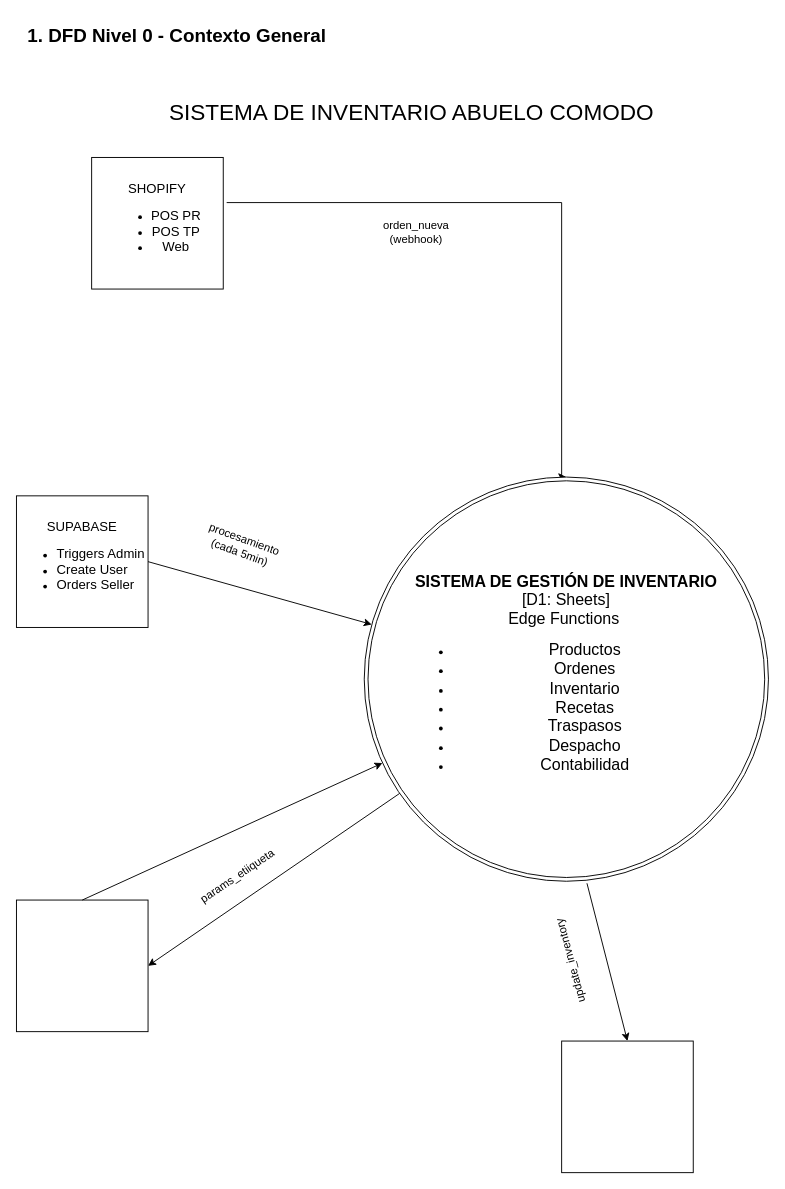
The diagram is 785 pixels wide and 1189 high, and some of its shapes have lost their labels. Here are the shapes that lost their labels. From the top down, the centre of each, then its label:
[82,965]: Vercel (Labels)
[627,1106]: SHOPIFY inventory
